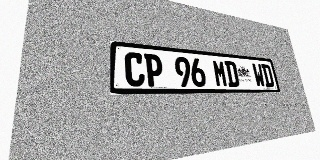6: (189, 57, 207, 87)
9: (174, 56, 192, 87)
C: (124, 52, 145, 87)
D: (224, 61, 240, 87), (261, 64, 275, 87)
M: (212, 59, 228, 87)
P: (144, 53, 164, 87)
W: (251, 63, 266, 87)
